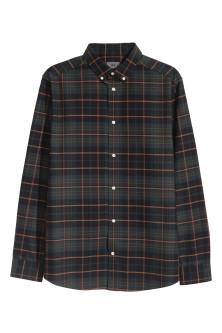teeshirt: (3, 40, 220, 291)
